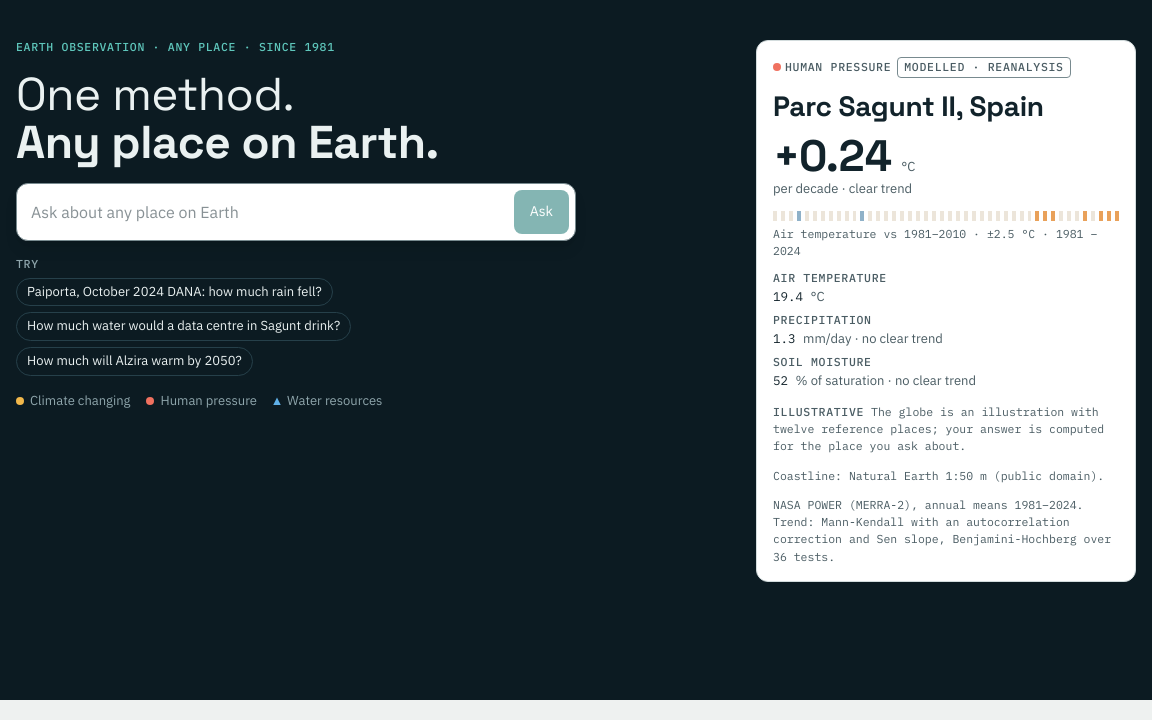
Test case: a refusal shows the server's own sentence
Type "What changed?" into the search field named "Your question".
click(264, 212); type("What changed?")  # box [23,190,506,234]
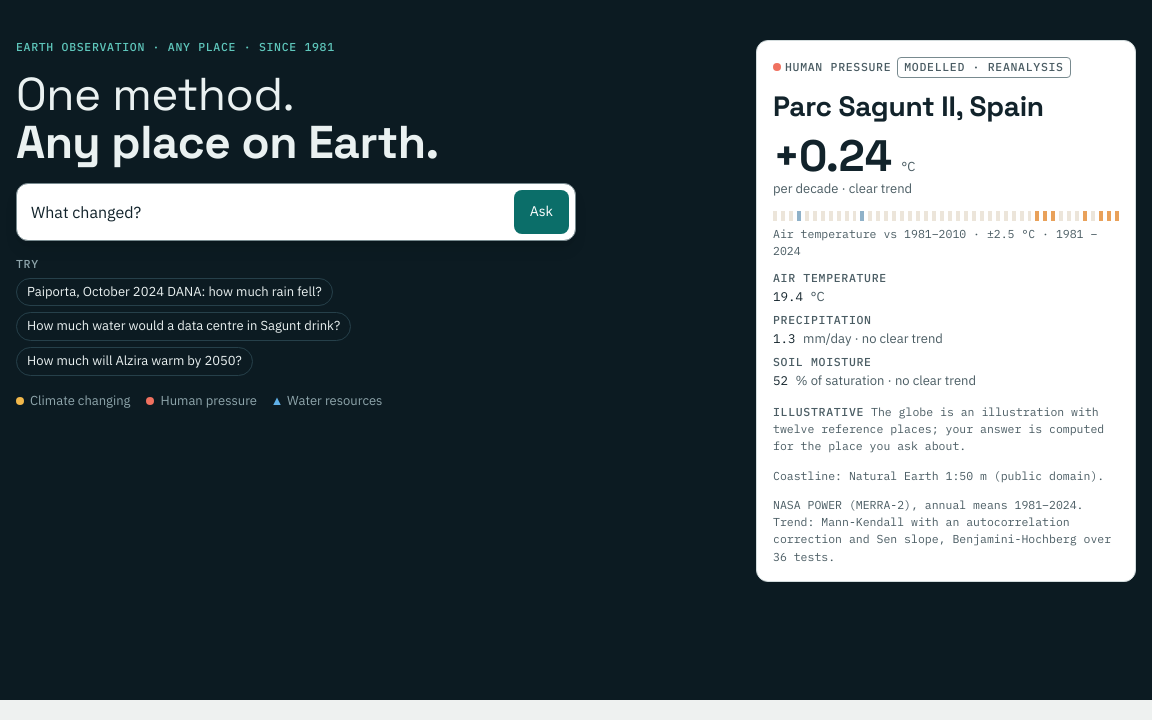
Click the button "Ask".
click(541, 212)  # box [514,190,569,234]
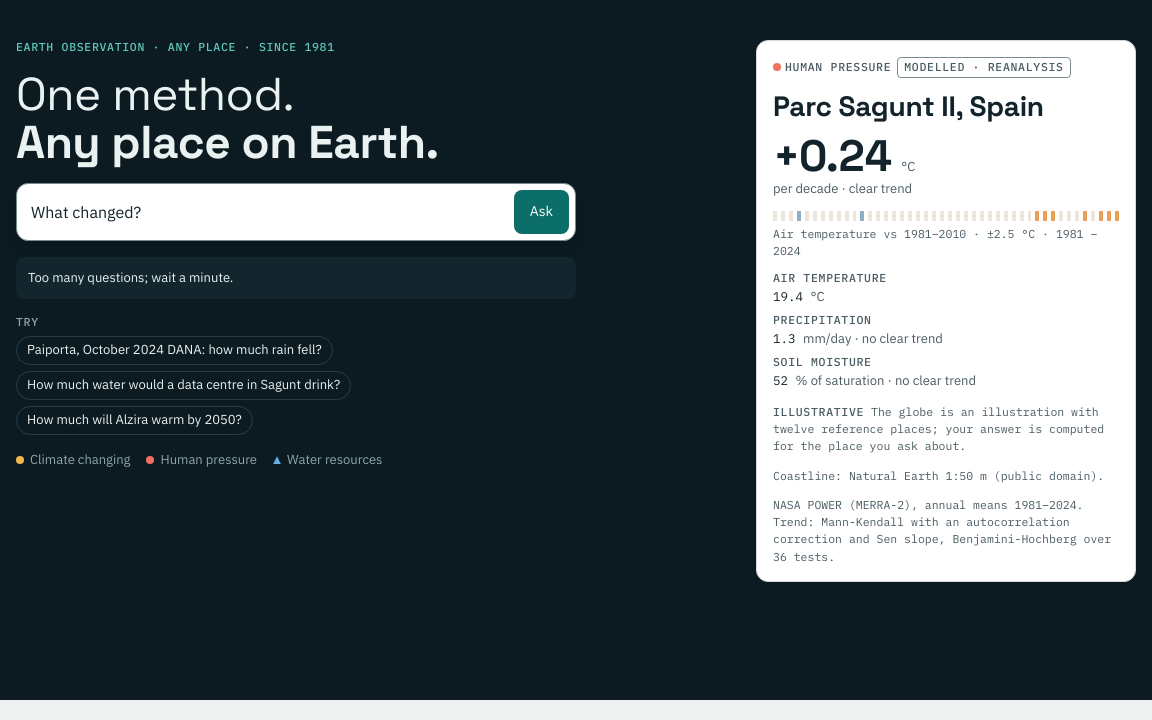
Check: the text "Too many questions; wait a minute." is shown, box [16,257,576,299]
